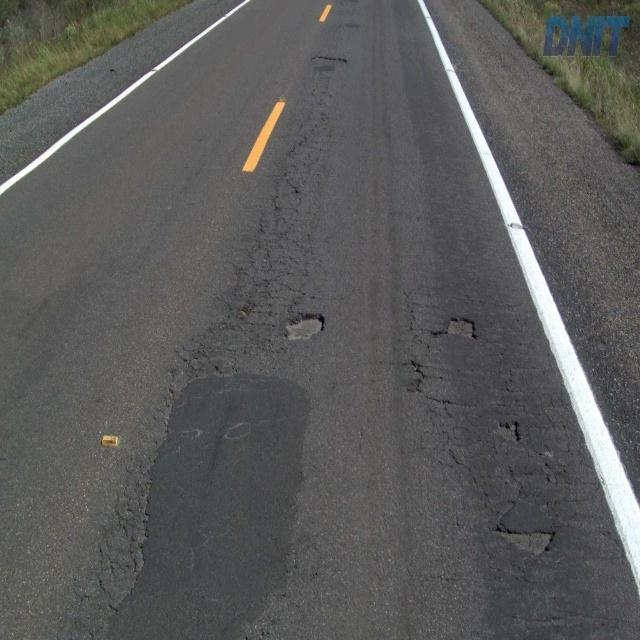pothole: (491, 521, 555, 560), (426, 309, 482, 341), (281, 306, 325, 346), (488, 412, 523, 445)
